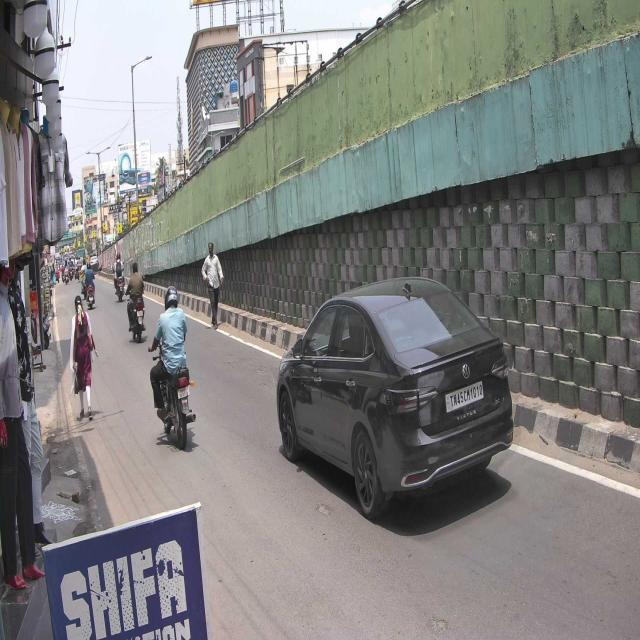single_rider: (147, 285, 197, 452)
